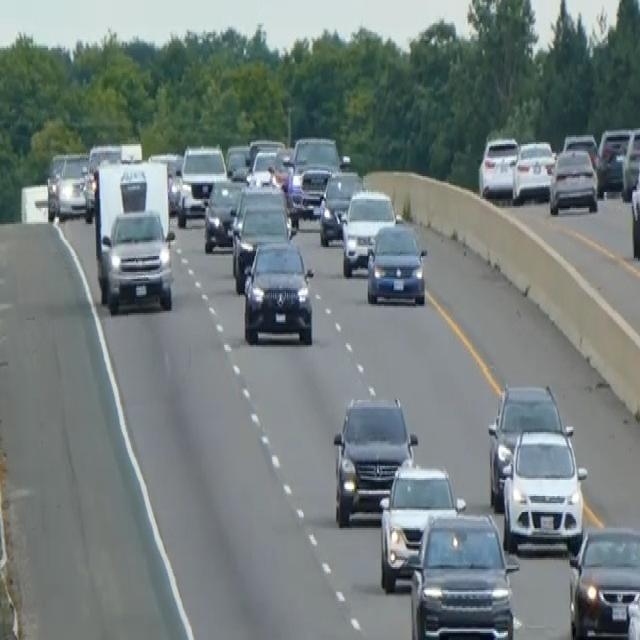car: (408, 508, 518, 638), (378, 457, 465, 592), (332, 391, 417, 526), (501, 423, 587, 555), (486, 381, 567, 508), (568, 523, 639, 638), (231, 198, 292, 292), (365, 218, 427, 306), (340, 187, 396, 277), (176, 142, 227, 226), (288, 133, 340, 215), (231, 181, 290, 242), (548, 144, 598, 215), (318, 167, 362, 245), (202, 176, 245, 252), (511, 137, 555, 204), (477, 133, 519, 199), (596, 126, 631, 196), (56, 151, 89, 219), (148, 150, 183, 213), (291, 133, 340, 176), (562, 130, 599, 170), (45, 149, 66, 219), (249, 146, 283, 187), (621, 125, 639, 199), (625, 548, 639, 638), (247, 135, 284, 165), (224, 142, 250, 182), (629, 156, 639, 258)
jeep: (241, 235, 316, 346)
truck: (92, 156, 175, 313)
